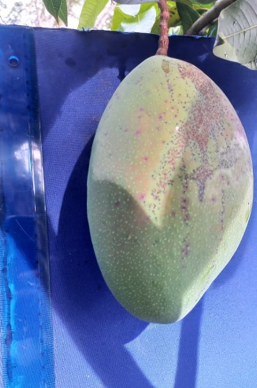Mango-Antracnosis: (87, 55, 253, 323)
Mango-area-afectada: (137, 60, 252, 227)
Mango-sano: (87, 69, 252, 322)
